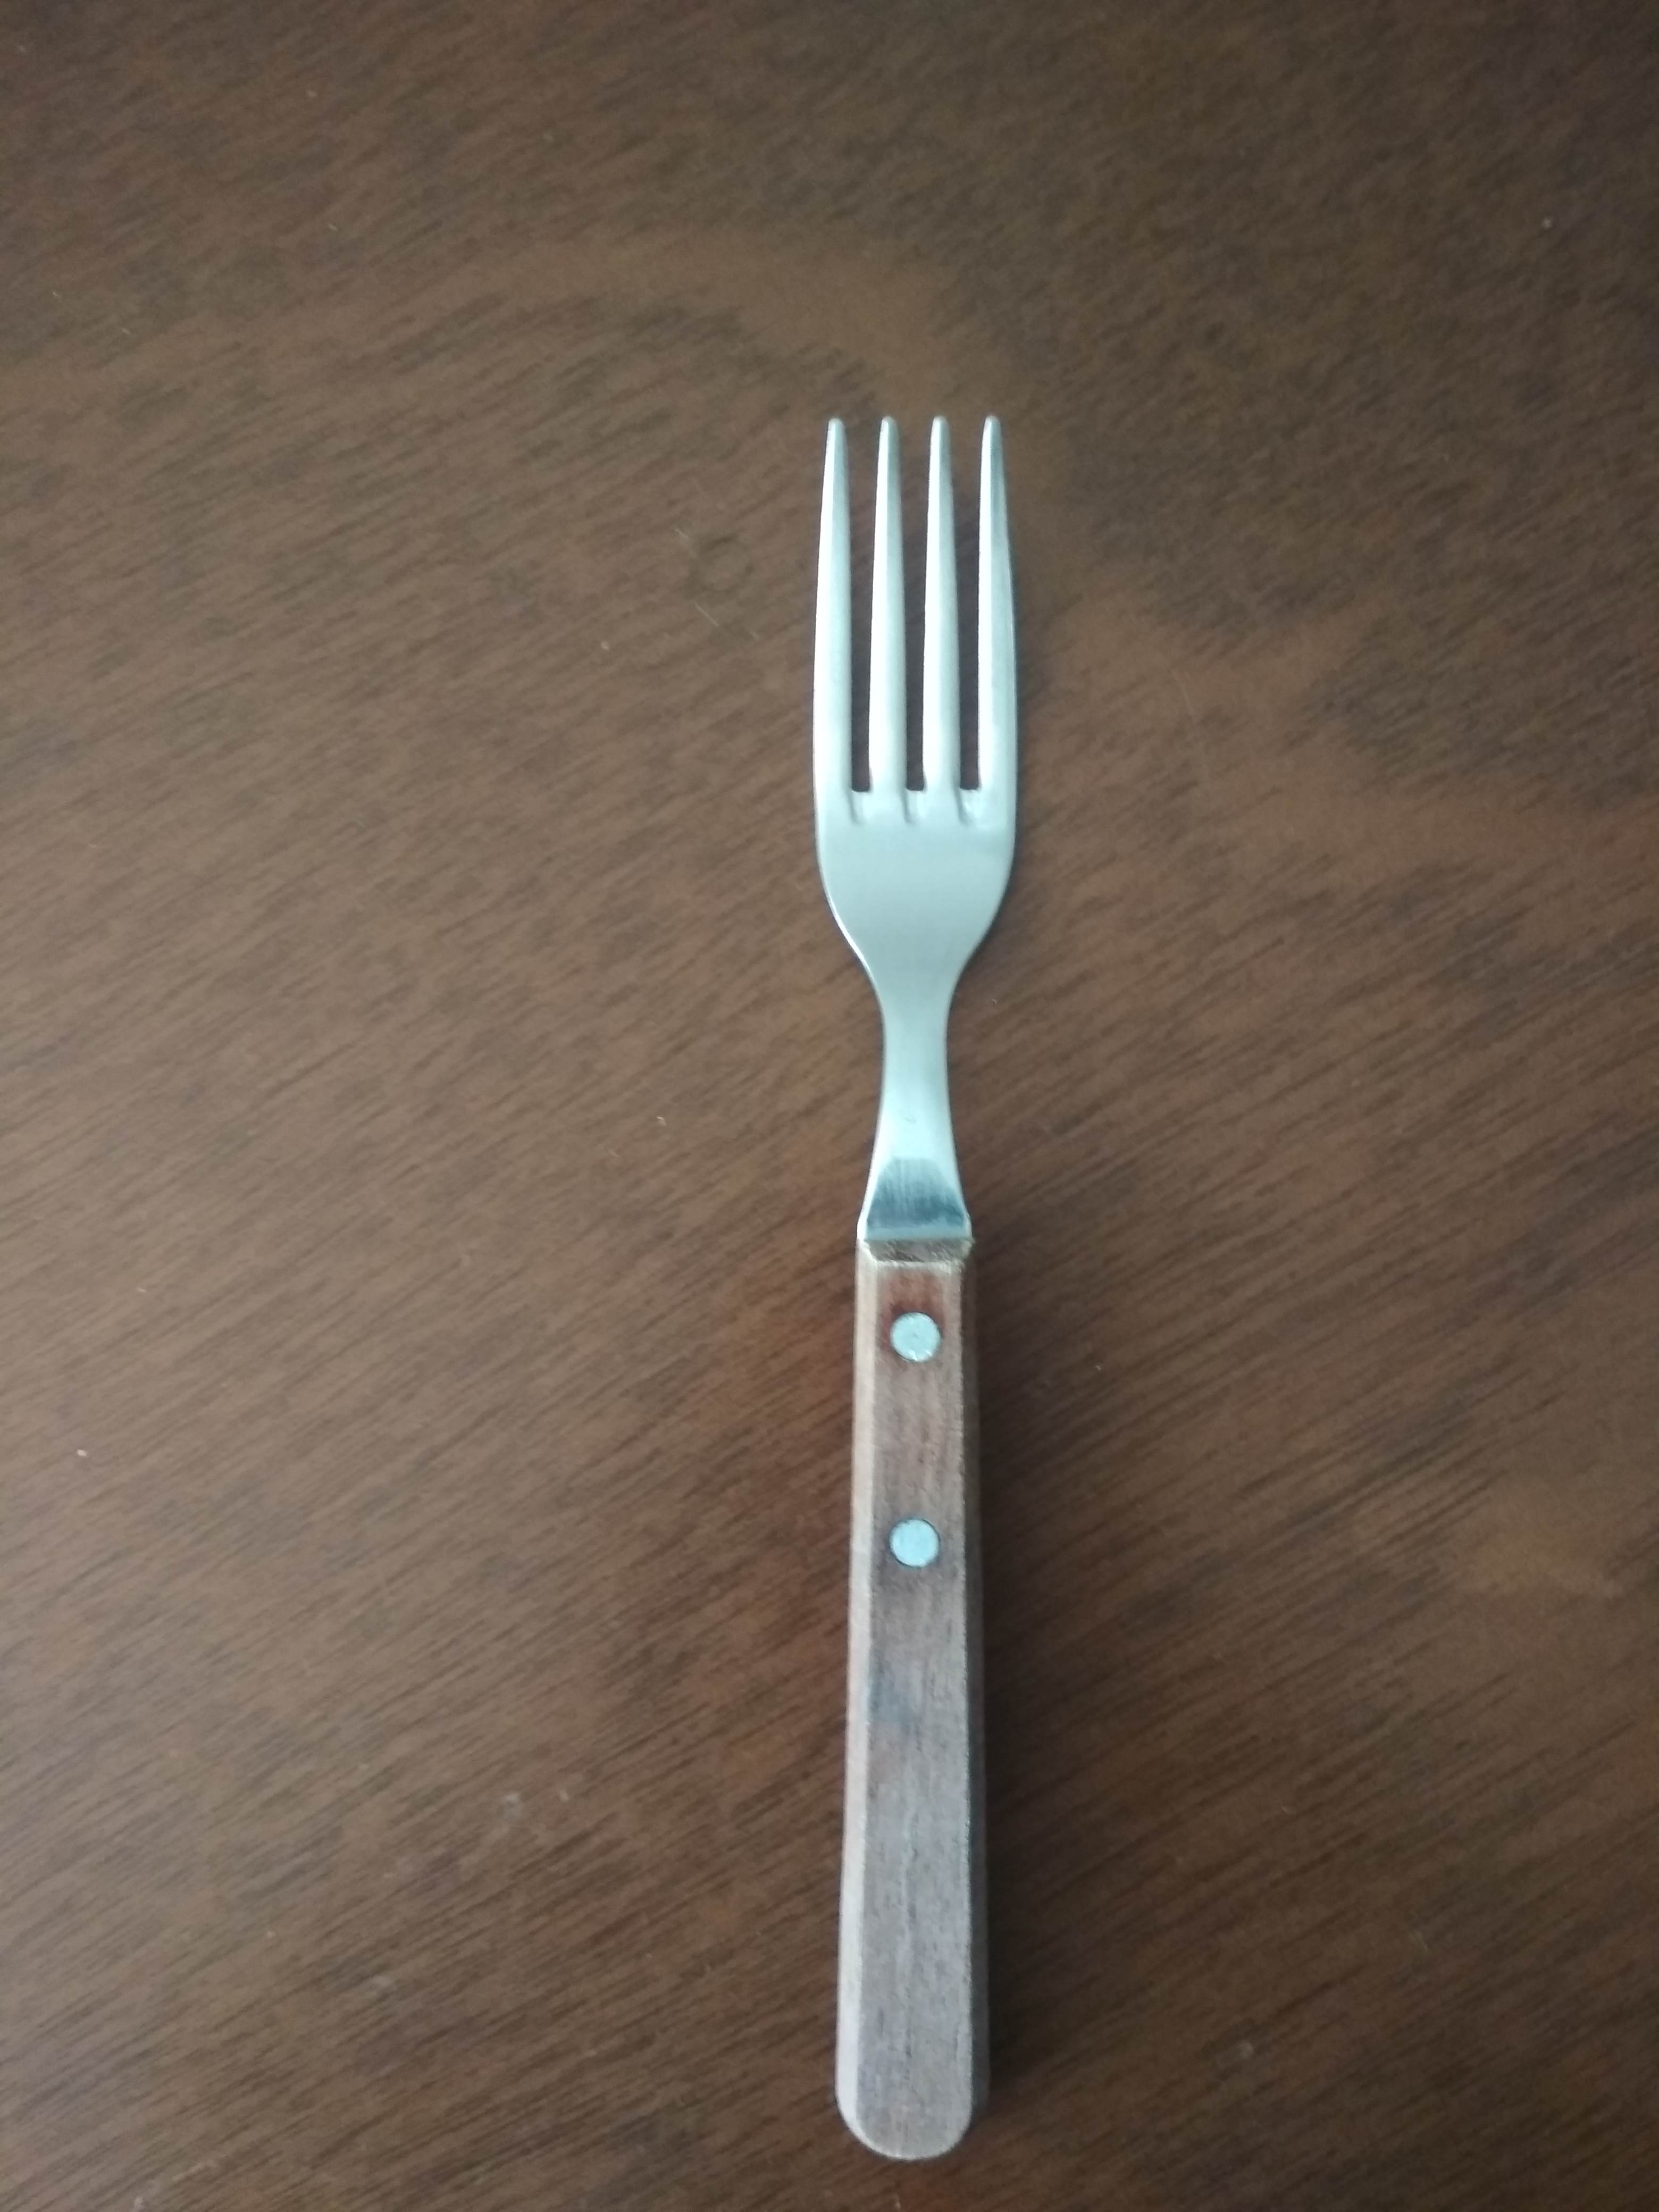fork: (788, 402, 1033, 2172)
